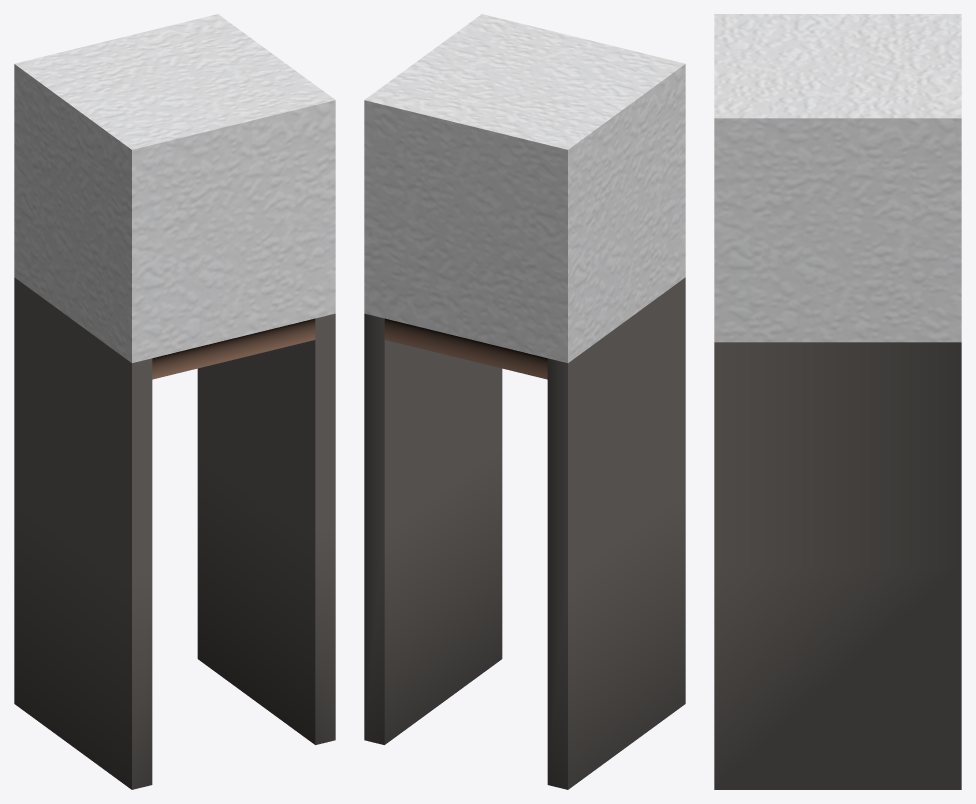
Rendered from DOOR.FBX.
The picture shows the model from 3 angles, left to right: view 1: azimuth 30°, elevation 25°; view 2: azimuth 150°, elevation 25°; view 3: azimuth 270°, elevation 25°; orthographic projection. The views are drawn at different scales.
Parts seen in each view (by area): view 1: DoorType02-Open-000; view 2: DoorType02-Open-000; view 3: DoorType02-Open-000.
Part boxes in pixels (box(x1,y1,x2,y2)): DoorType02-Open-000: box(14, 14, 335, 789); DoorType02-Open-000: box(364, 14, 685, 789); DoorType02-Open-000: box(714, 14, 961, 789).
Bounding box in the file's own units: 10 × 30 × 10.
2 materials, 1 textured.
